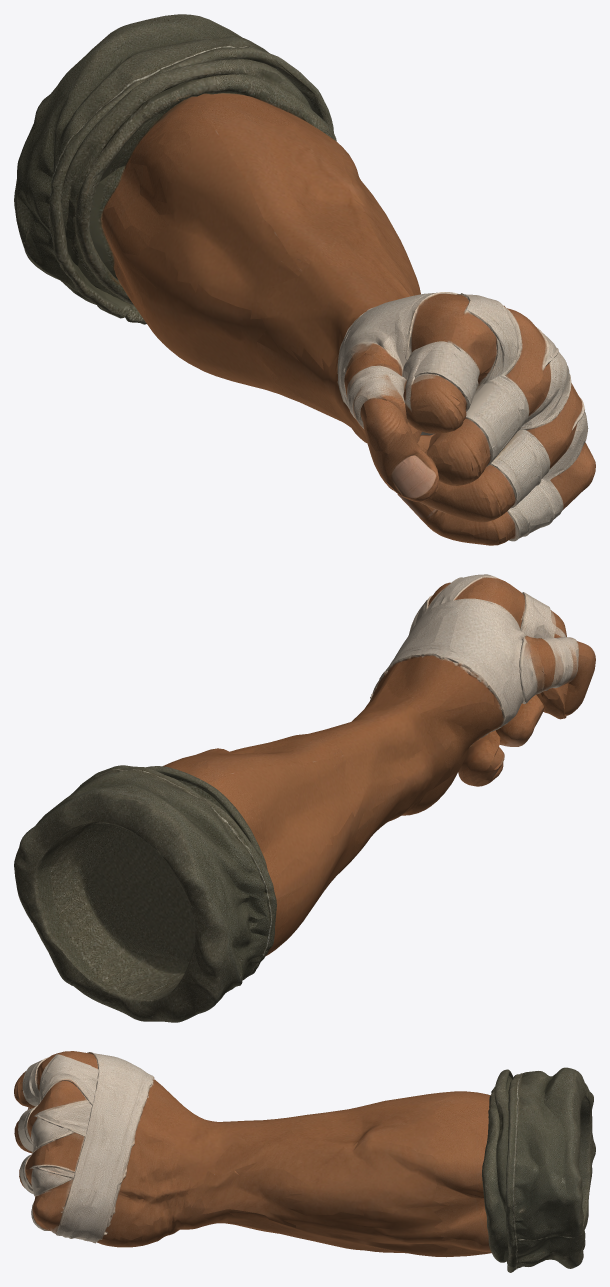
File: pugno_3d.glb
3 renders of one model, top to bottom at view 1: azimuth 30°, elevation 25°; view 2: azimuth 150°, elevation 25°; view 3: azimuth 270°, elevation 25°, orthographic. The views are drawn at different scales.
Parts seen in each view (by area): view 1: Mesh_0; view 2: Mesh_0; view 3: Mesh_0.
Boxes of the visible parts, x1,y1,x2,y2 form: Mesh_0: (14,14,595,545); Mesh_0: (14,574,595,1022); Mesh_0: (14,1051,595,1272).
Size of the model in its own units: 0.7973 by 0.682 by 1.9.
1 material, 1 textured.
